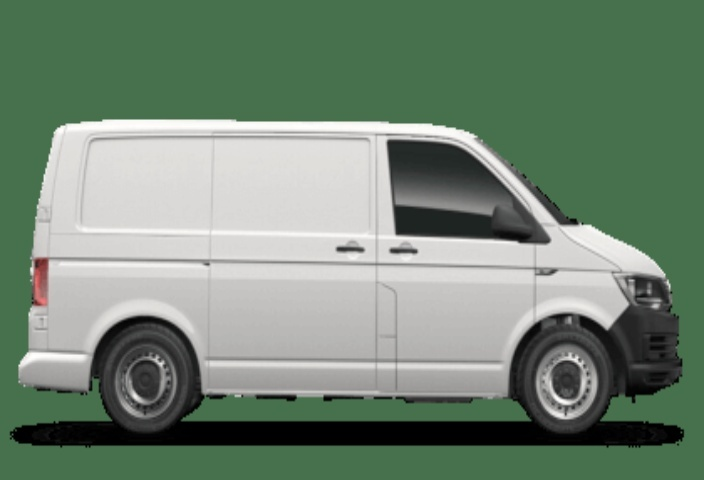van: (15, 94, 704, 457)
